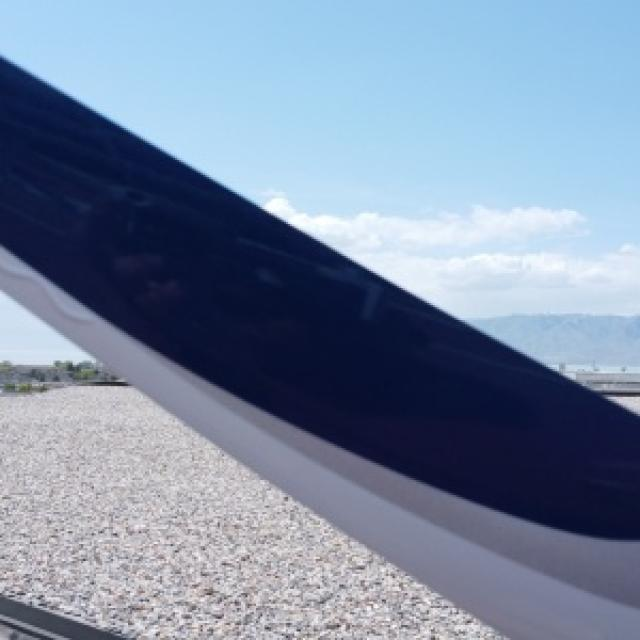healthy: (0, 0, 638, 314)
